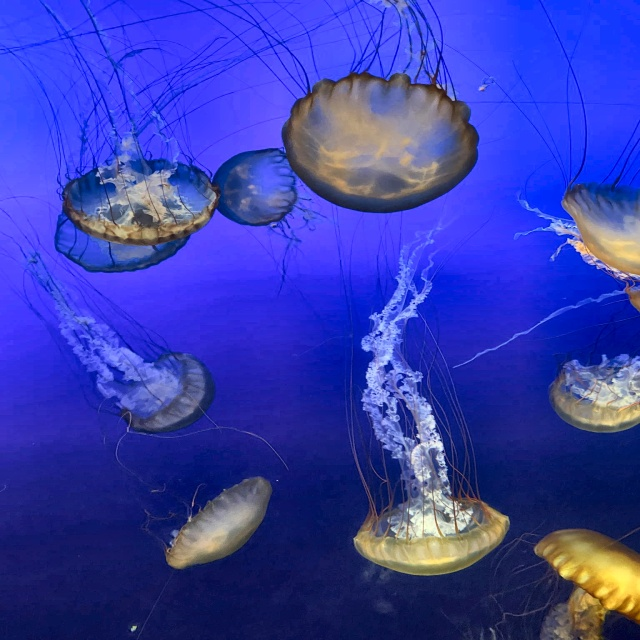jellyfish: (283, 72, 479, 213), (352, 495, 511, 577), (62, 159, 213, 243), (164, 476, 275, 570), (534, 528, 639, 626), (120, 352, 215, 439), (55, 212, 190, 272), (547, 352, 639, 433), (560, 184, 639, 278), (212, 148, 299, 225)
